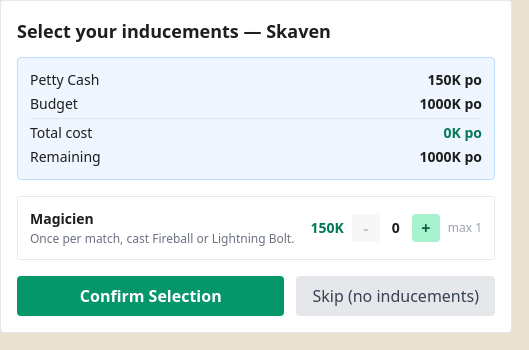
Test case: InducementSelector › enforces max quantity
Click the button "+": (426,228) 412,214 -> 440,242
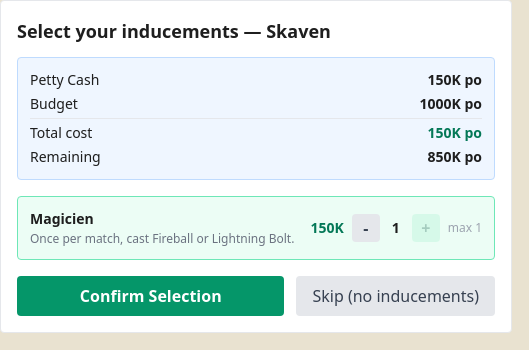
expect the button "+" is disabled: met, box 412,214 -> 440,242
